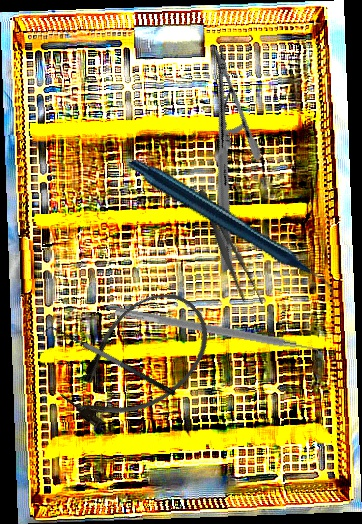Cannula: (47, 275, 228, 449)
Dressing Forceps: (190, 185, 267, 312)
Handpiece: (126, 109, 337, 350)
Needle Holder: (123, 46, 323, 273)
Spatula Surgical: (112, 306, 326, 363), (41, 318, 178, 407)
